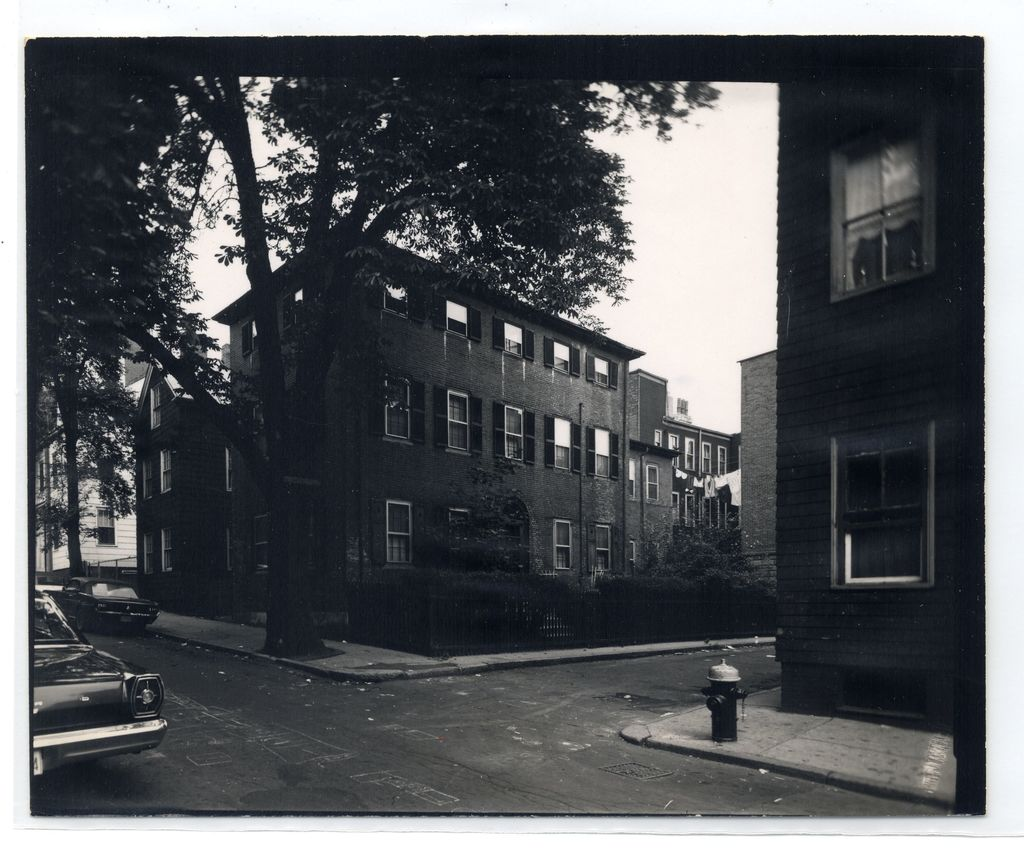Car: (14, 610, 167, 760), (41, 577, 161, 635)
